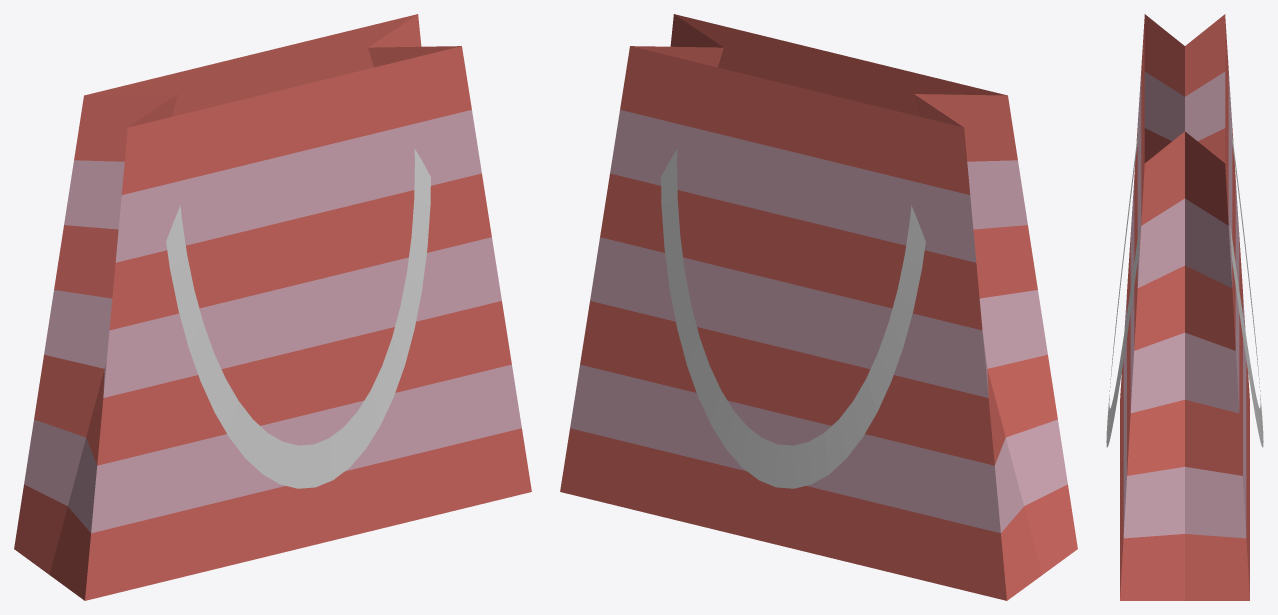
The model's file is bolsa.fbx.
3 renders of one model, left to right at view 1: azimuth 30°, elevation 25°; view 2: azimuth 150°, elevation 25°; view 3: azimuth 270°, elevation 25°, orthographic. The views are drawn at different scales.
Visible parts, largest first — view 1: Cubo.001; view 2: Cubo.001; view 3: Cubo.001.
Boxes of the visible parts, x1,y1,x2,y2 form: Cubo.001: (14, 14, 531, 600); Cubo.001: (560, 14, 1077, 600); Cubo.001: (1106, 14, 1263, 600).
Size of the model in its own units: 2.08 by 2 by 0.6906.
